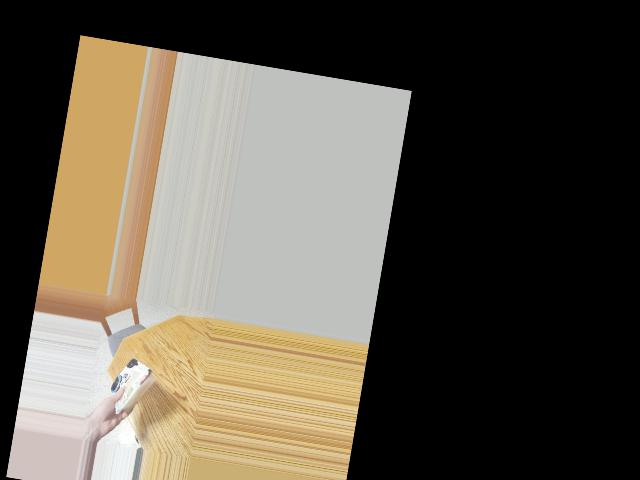cheese: (101, 356, 162, 411)
